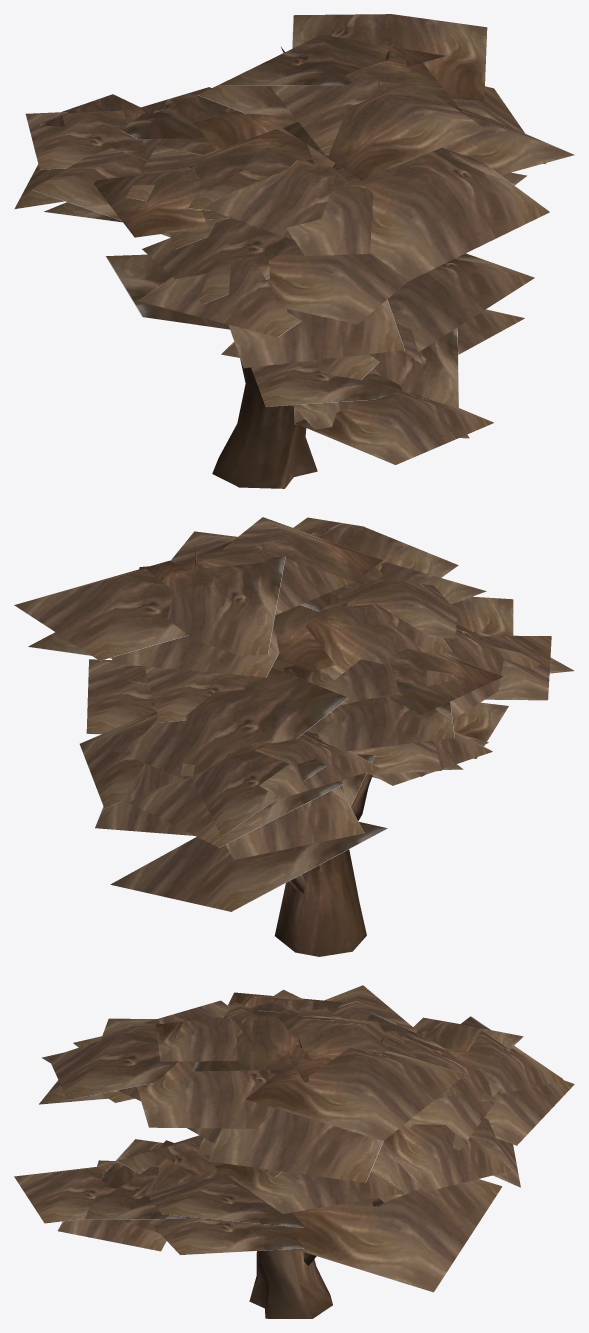
File: City_bujian_34.fbx
3 views of the same model, one above another, from view 1: azimuth 30°, elevation 25°; view 2: azimuth 150°, elevation 25°; view 3: azimuth 270°, elevation 25° (orthographic). The views are drawn at different scales.
Parts seen in each view (by area): view 1: City_1_2017_3_7_2:City_1_2017_3_7_2:City_1_2017_3_7:CIty_3_6; view 2: City_1_2017_3_7_2:City_1_2017_3_7_2:City_1_2017_3_7:CIty_3_6; view 3: City_1_2017_3_7_2:City_1_2017_3_7_2:City_1_2017_3_7:CIty_3_6.
Boxes of the visible parts, box(x1,y1,x2,y2) form: City_1_2017_3_7_2:City_1_2017_3_7_2:City_1_2017_3_7:CIty_3_6: box(14, 14, 574, 488); City_1_2017_3_7_2:City_1_2017_3_7_2:City_1_2017_3_7:CIty_3_6: box(14, 517, 574, 956); City_1_2017_3_7_2:City_1_2017_3_7_2:City_1_2017_3_7:CIty_3_6: box(14, 985, 574, 1318).
Size of the model in its own units: 10.3 by 8.36 by 12.95.
